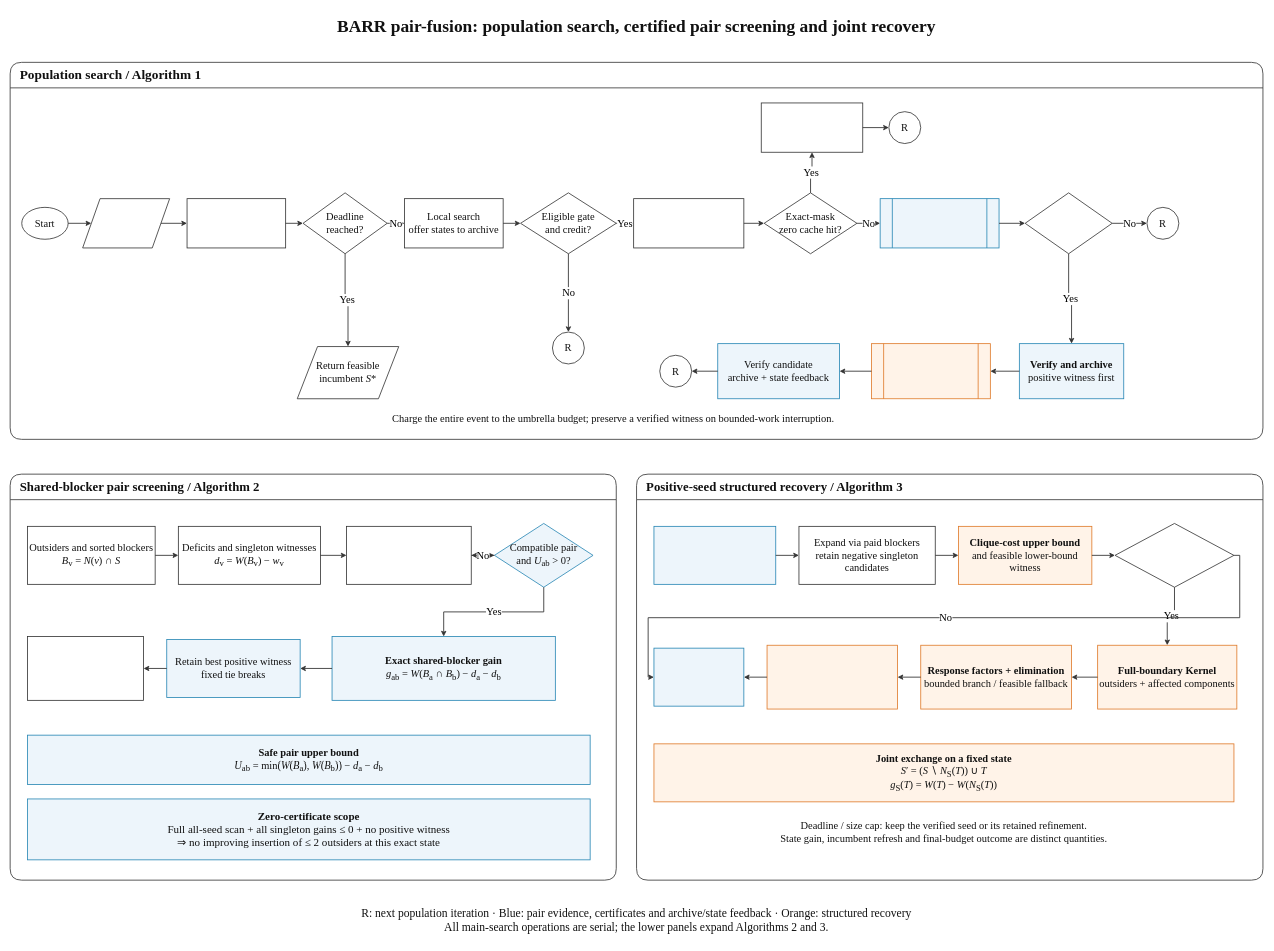
The diagram is 1274 pixels wide and 951 high, and some of its shapes have lost their labels. Each missing label, with the centre of its shape:
Choose target optional fusion + descent: the point at 688,223
Enumerate shared-blocker pairs rotate seeds; deduplicate: the point at 408,555
Fused state: eligible slot feedback: the point at 812,127
Initialize P , S * deadline and caches: the point at 236,223
Input graph G, w, S 0: the point at 126,223
Lift and verify keep only additional gain: the point at 832,677
Positive witness?: the point at 1068,223
Return retained feasible candidate: the point at 698,676
Return witness + completion keep positive lower bound if partial: the point at 85,668
Shared-blocker scout Algorithm 2: the point at 939,223
Structured refinement Algorithm 3: the point at 930,371
U > retained gain and time remains?: the point at 1174,555
Verified positive seed already offered to archive: the point at 714,555
